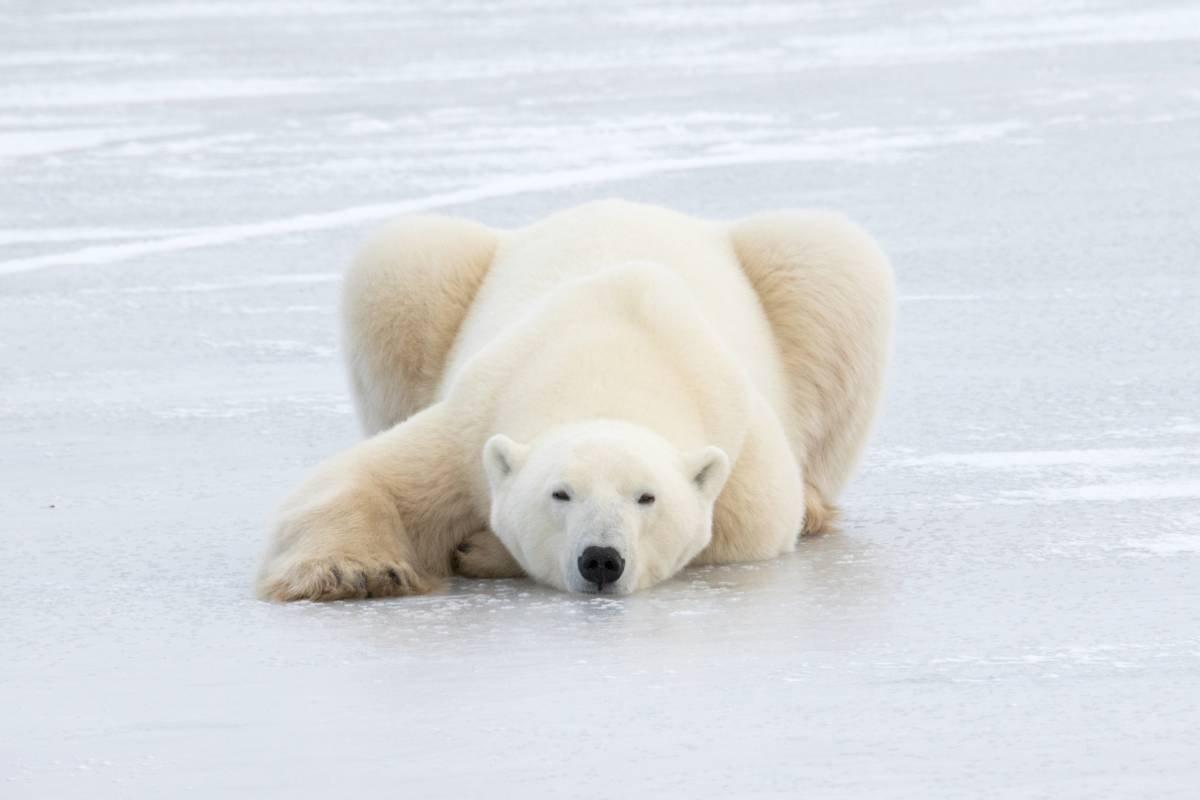bear: (267, 171, 924, 640)
